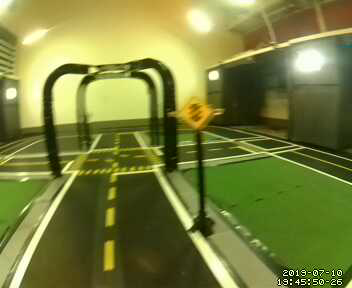Traffic light sign: (180, 97, 212, 131)
